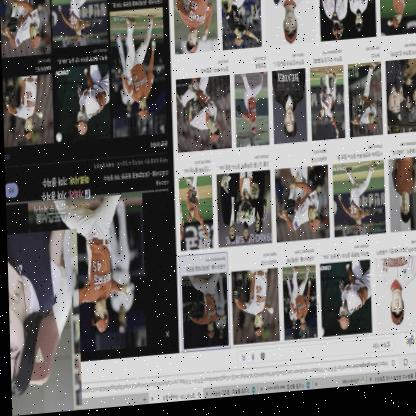streamer: (5, 231, 68, 401)
